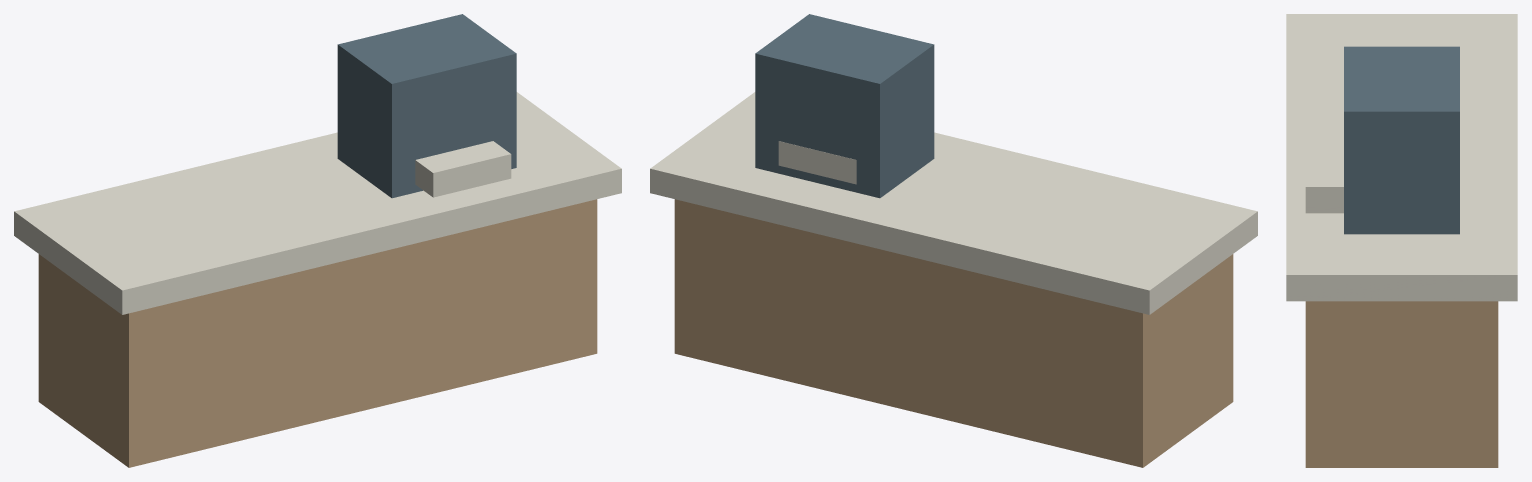
Rendered from voxel-city-districts-cafe-counter-f8a19a8a__24873.glb.
3 renders of one model, left to right at view 1: azimuth 30°, elevation 25°; view 2: azimuth 150°, elevation 25°; view 3: azimuth 270°, elevation 25°, orthographic. The views are drawn at different scales.
Visible parts, largest first — view 1: cafe-counter-wood, cafe-counter-concrete, cafe-counter-dark; view 2: cafe-counter-wood, cafe-counter-concrete, cafe-counter-dark; view 3: cafe-counter-concrete, cafe-counter-wood, cafe-counter-dark.
Part boxes in pixels (left/top/right/bottom): cafe-counter-wood: left=38, top=199, right=597, bottom=467; cafe-counter-concrete: left=14, top=92, right=621, bottom=314; cafe-counter-dark: left=337, top=14, right=516, bottom=198; cafe-counter-wood: left=674, top=199, right=1233, bottom=467; cafe-counter-concrete: left=650, top=92, right=1257, bottom=314; cafe-counter-dark: left=755, top=14, right=934, bottom=198; cafe-counter-concrete: left=1286, top=14, right=1517, bottom=301; cafe-counter-wood: left=1305, top=301, right=1498, bottom=467; cafe-counter-dark: left=1344, top=46, right=1459, bottom=234.
Size of the model in its own units: 3.2 by 1.85 by 1.2.
